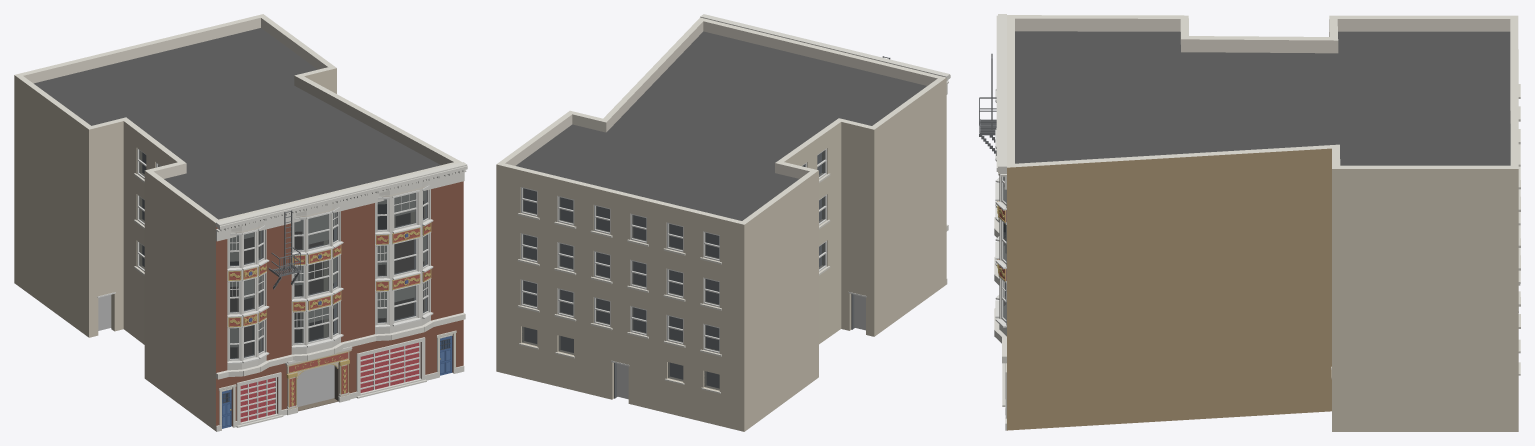
File: exterior.glb
The picture shows the model from 3 angles, left to right: view 1: azimuth 30°, elevation 25°; view 2: azimuth 150°, elevation 25°; view 3: azimuth 270°, elevation 25°; orthographic projection. The views are drawn at different scales.
Visible parts, largest first — view 1: shell, roof, bay-glazing-sash, storefront, bay-windows-sash, dentil-cornice, bay-plaques, shadow-proxy, string-course, fire-escape, glazing; view 2: shell, roof, glazing, shadow-proxy, frames, trim, dentil-cornice; view 3: shell, roof, dentil-cornice, bay-glazing-sash, trim, fire-escape, bay-windows-sash, string-course.
Part boxes in pixels (x1=…): shell: x1=14, y1=14, x2=463, y2=430; roof: x1=34, y1=28, x2=440, y2=219; bay-glazing-sash: x1=227, y1=185, x2=433, y2=364; storefront: x1=97, y1=292, x2=456, y2=430; bay-windows-sash: x1=227, y1=180, x2=430, y2=370; dentil-cornice: x1=216, y1=162, x2=467, y2=241; bay-plaques: x1=228, y1=223, x2=431, y2=327; shadow-proxy: x1=98, y1=153, x2=426, y2=406; string-course: x1=216, y1=312, x2=465, y2=379; fire-escape: x1=268, y1=210, x2=300, y2=289; glazing: x1=139, y1=150, x2=450, y2=402; shell: x1=496, y1=17, x2=946, y2=431; roof: x1=516, y1=31, x2=926, y2=220; glazing: x1=522, y1=150, x2=824, y2=390; shadow-proxy: x1=524, y1=153, x2=865, y2=399; frames: x1=521, y1=148, x2=826, y2=353; trim: x1=517, y1=173, x2=830, y2=393; dentil-cornice: x1=700, y1=14, x2=950, y2=94; shell: x1=1007, y1=15, x2=1518, y2=431; roof: x1=1015, y1=31, x2=1510, y2=165; dentil-cornice: x1=996, y1=14, x2=1006, y2=189; bay-glazing-sash: x1=995, y1=89, x2=1006, y2=327; trim: x1=1518, y1=84, x2=1520, y2=375; fire-escape: x1=979, y1=53, x2=996, y2=155; bay-windows-sash: x1=999, y1=174, x2=1006, y2=336; string-course: x1=994, y1=217, x2=1006, y2=363.
Size of the model in its own units: 15.22 by 12.16 by 22.62.
